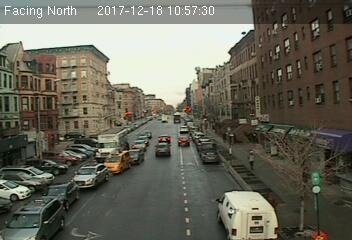car: (44, 182, 80, 210), (73, 162, 108, 189), (103, 151, 132, 173), (202, 150, 219, 164), (154, 142, 170, 156), (132, 139, 146, 151), (178, 136, 192, 147)
pedestrian: (247, 149, 255, 171)
truck: (214, 189, 280, 239), (96, 128, 127, 164)
